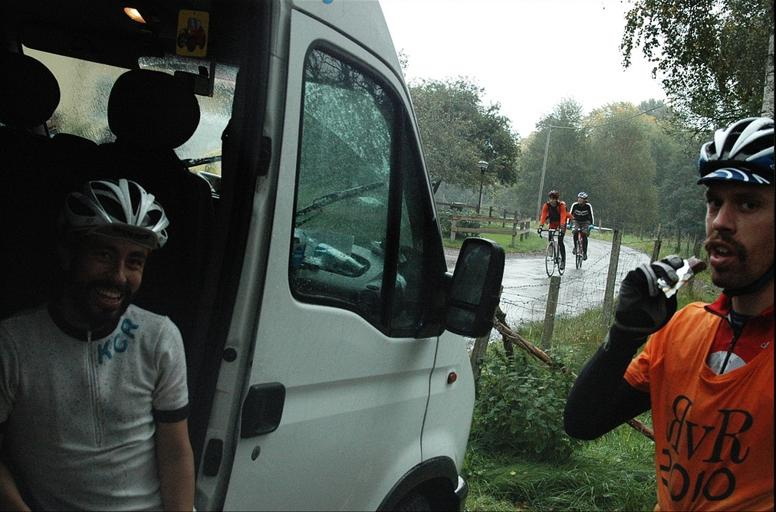non-vehicle: (536, 226, 566, 277), (566, 222, 592, 269)
